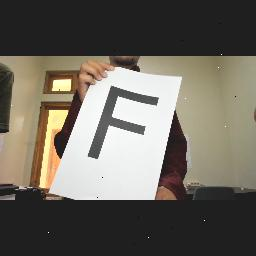f: (84, 82, 160, 164)
